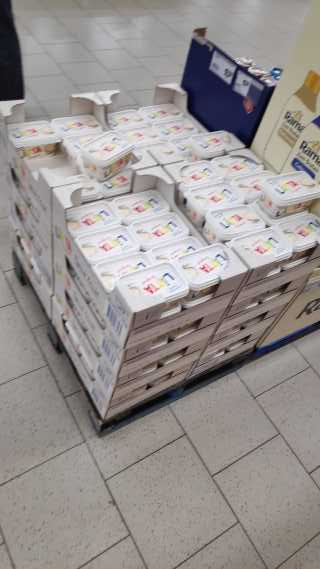laetta: (111, 260, 190, 308), (175, 242, 241, 296), (77, 130, 135, 179), (255, 171, 318, 216), (226, 223, 289, 268), (72, 224, 142, 264), (181, 182, 246, 223), (202, 202, 267, 243), (6, 119, 61, 154), (109, 187, 169, 219), (128, 214, 188, 246), (62, 199, 116, 232), (186, 129, 241, 160), (51, 111, 101, 141), (152, 116, 206, 140), (175, 159, 222, 183), (103, 106, 143, 128), (140, 102, 175, 121)
